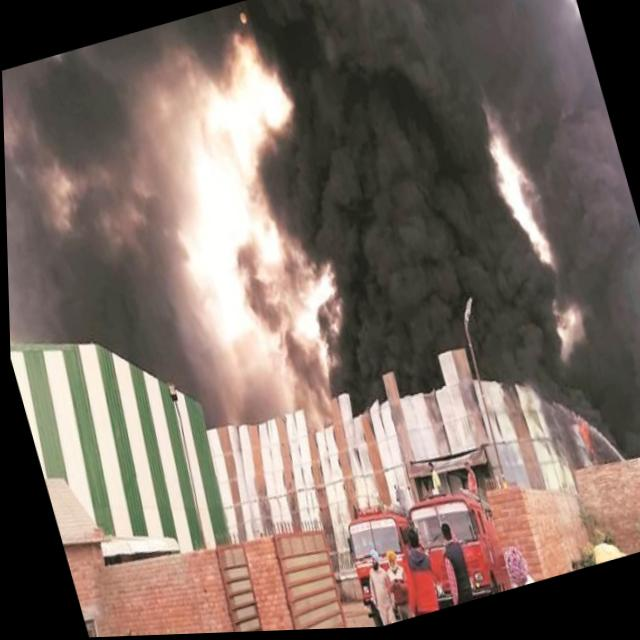fire: (93, 0, 384, 446), (464, 82, 573, 300), (29, 150, 91, 239), (537, 287, 593, 376), (571, 410, 600, 472)
